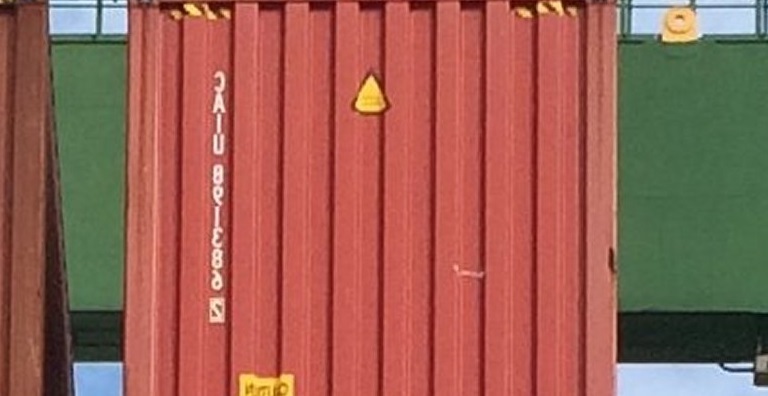container_no_door: (130, 6, 622, 395)
